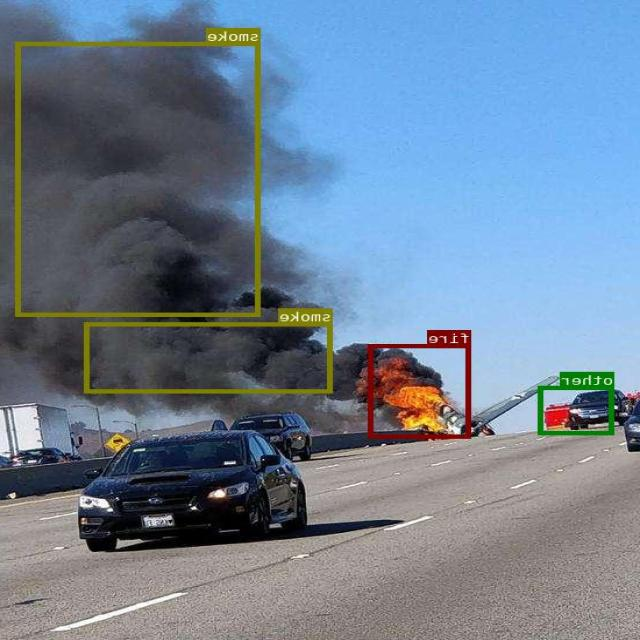fire: (369, 344, 472, 437)
other: (539, 386, 615, 434)
smoke: (17, 41, 261, 316), (86, 322, 333, 392)
